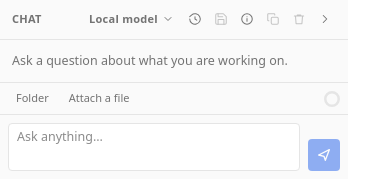
ChatModelPicker › lists the configured models, with the slug as secondary text
The width and height of the screenshot is (376, 188).
Click the button with aria-label "Choose the model": [132, 19] box [83,8,180,31]
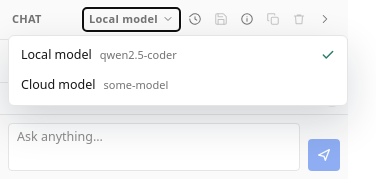
Expected: the menu item "Cloud model some-model" is shown, [9,70,347,101]
Expected: the text "qwen2.5-coder" is shown, [100,48,177,62]
